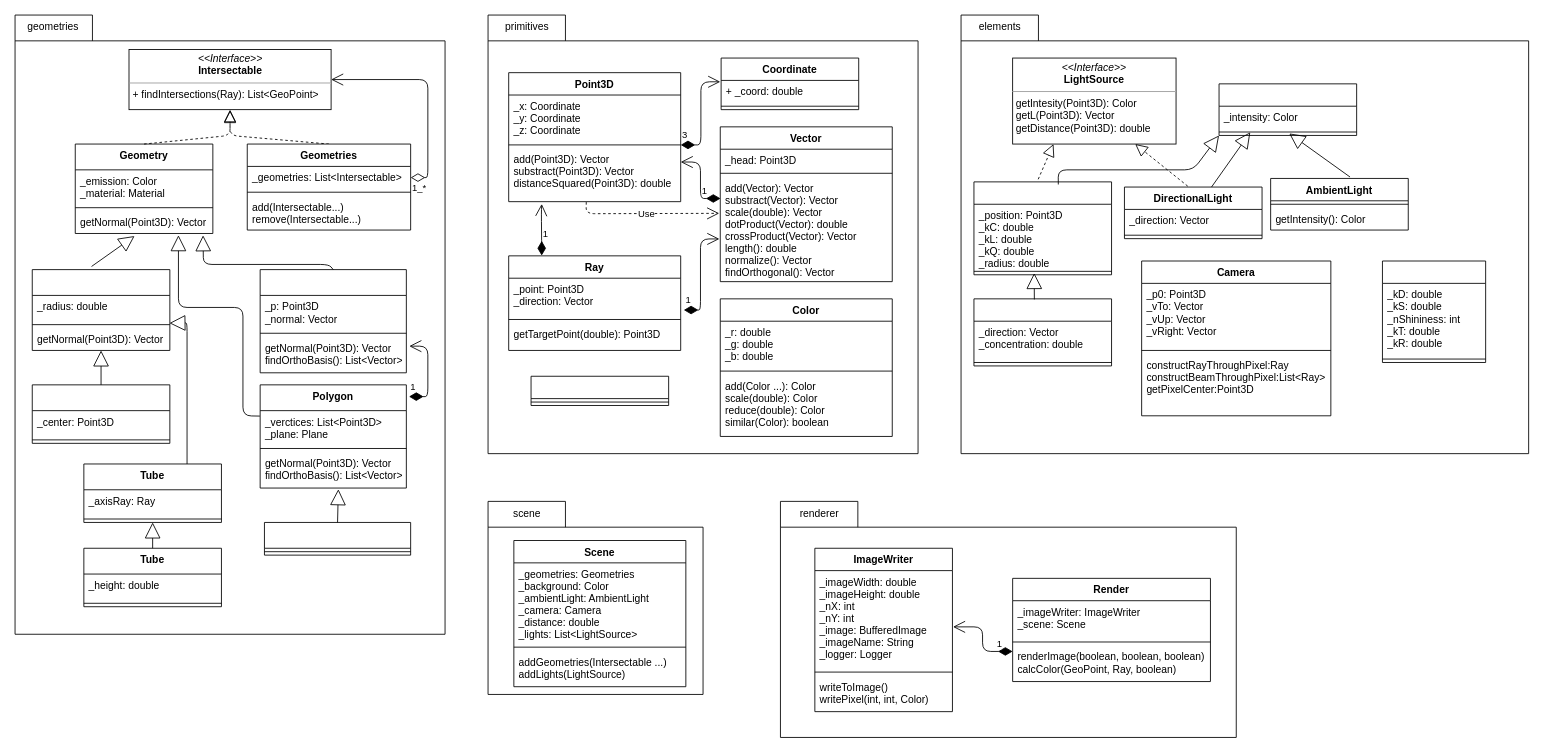
Some shapes in this 1544 by 753 pixel diagram are drawn without their labels. Each missing label, with the box of its shape:
Light: (1218, 83, 1357, 135)
Material: (1382, 260, 1486, 362)
Plane: (259, 269, 406, 373)
PointLight: (973, 181, 1112, 275)
RadialGeometry: (31, 269, 170, 350)
Sphere: (31, 384, 170, 443)
SpotLight: (973, 298, 1112, 366)
Triangle: (264, 522, 411, 555)
Util: (530, 375, 669, 405)
